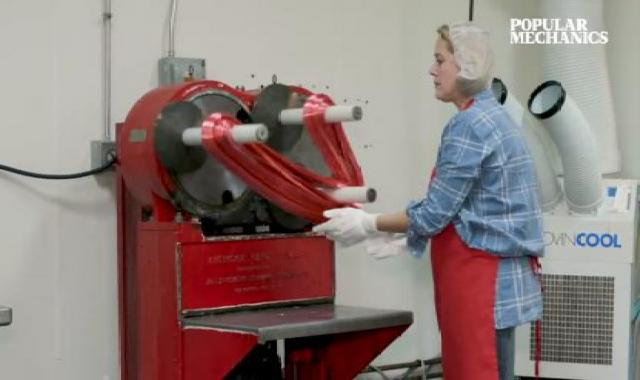hairnet: (431, 20, 506, 101)
